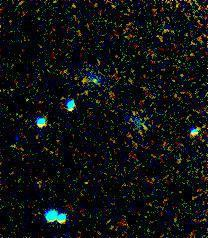star: (73, 62, 103, 92)
